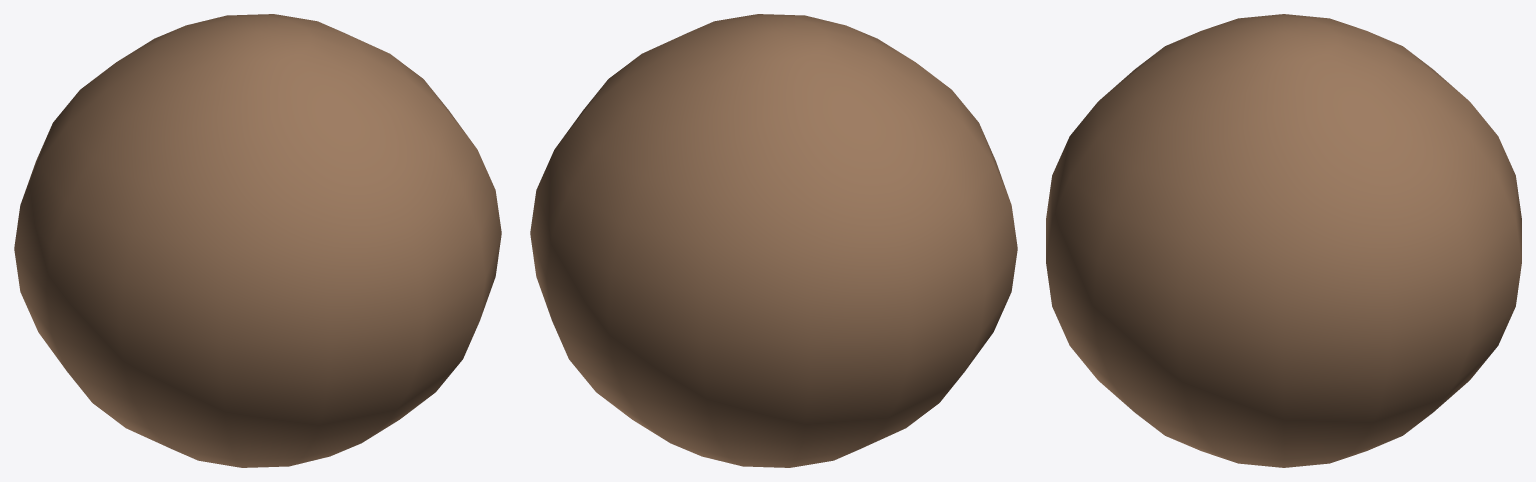
File: Coco.fbx
3 views of the same model, side by side, from view 1: azimuth 30°, elevation 25°; view 2: azimuth 150°, elevation 25°; view 3: azimuth 270°, elevation 25° (orthographic).
Parts seen in each view (by area): view 1: coco; view 2: coco; view 3: coco.
Part boxes in pixels (<box>): coco: <box>14,14,501,467</box>; coco: <box>530,14,1017,467</box>; coco: <box>1046,14,1521,467</box>.
Bounding box in the file's own units: 4.71 × 4.42 × 4.59.
